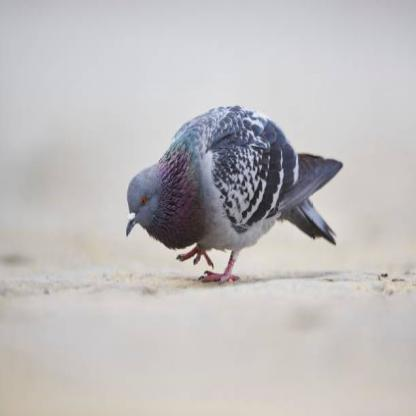Flying Rat: (122, 109, 364, 295)
